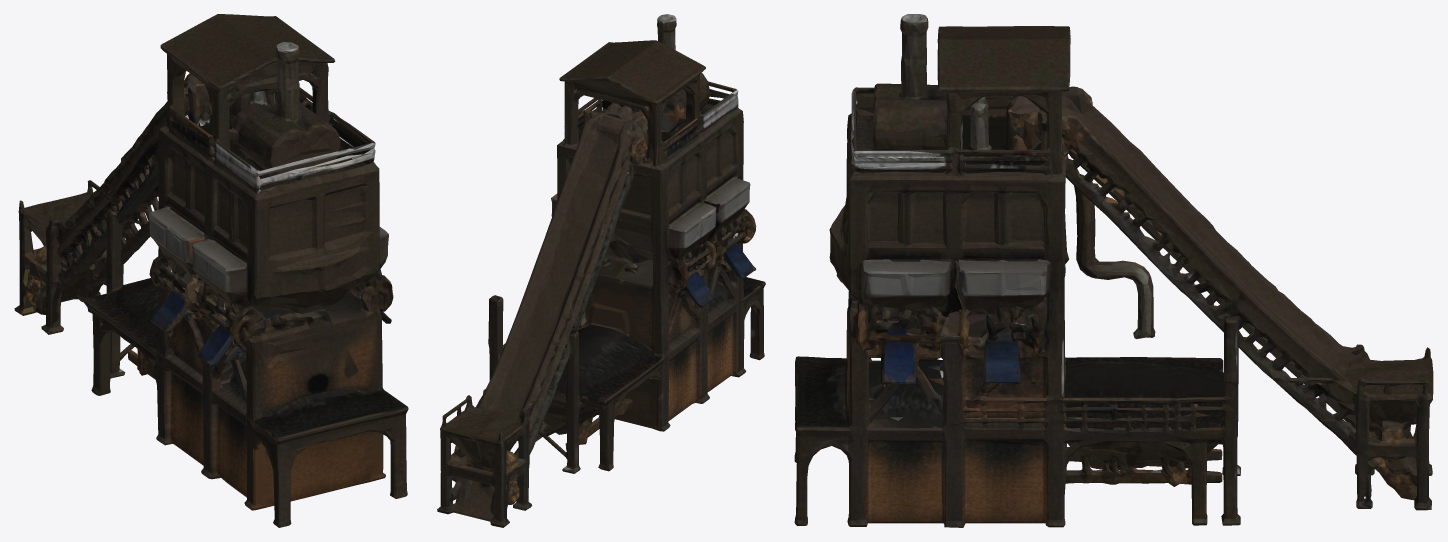
Rendered from coaling_station.glb.
The picture shows the model from 3 angles, left to right: view 1: azimuth 30°, elevation 25°; view 2: azimuth 150°, elevation 25°; view 3: azimuth 270°, elevation 25°; orthographic projection. The views are drawn at different scales.
Visible parts, largest first — view 1: HullBody; view 2: HullBody; view 3: HullBody.
Boxes of the visible parts, x1,y1,x2,y2 form: HullBody: (14, 14, 408, 527); HullBody: (437, 14, 765, 527); HullBody: (794, 14, 1433, 527).
Bounding box in the file's own units: 8.77 × 19.65 × 24.
1 material, 1 textured.
